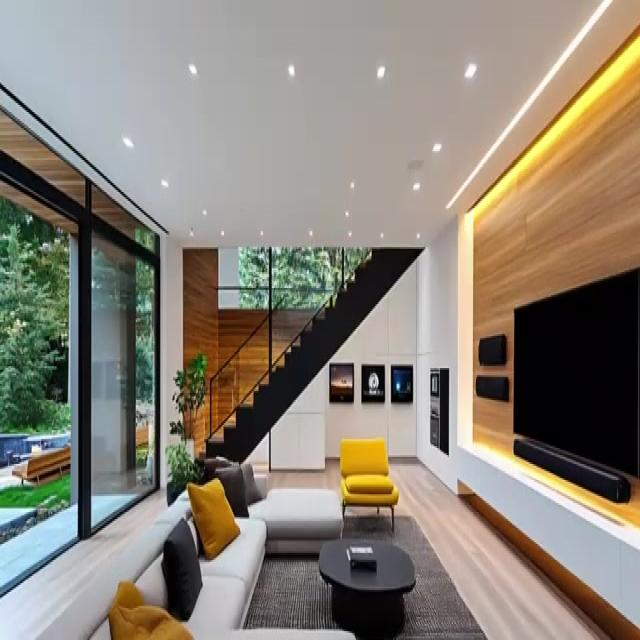obstacle: (318, 537, 416, 638), (339, 438, 399, 534)
